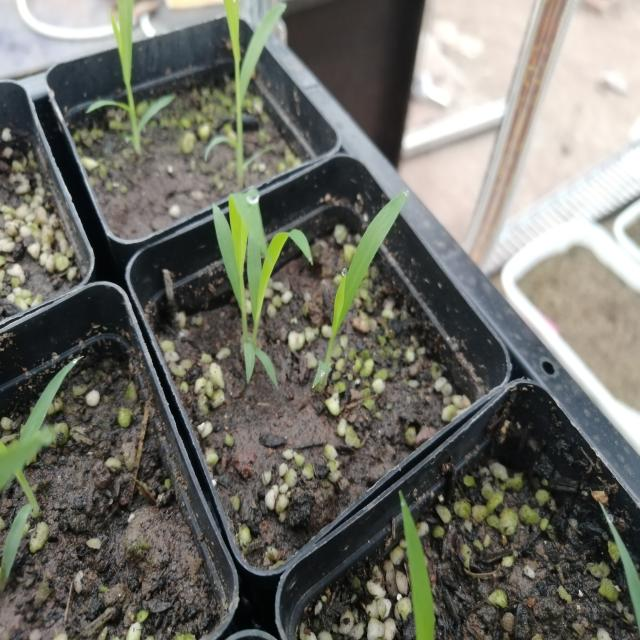crabgrass: (187, 163, 425, 412)
